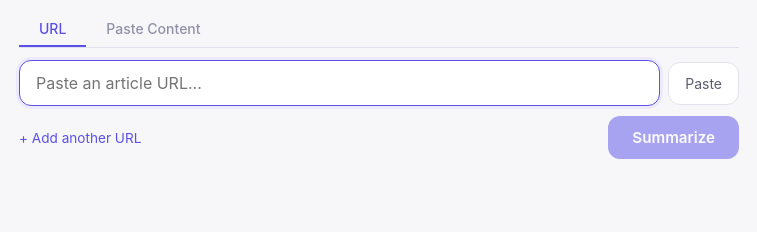
Scenario: UrlInput › shouldShowValidationErrorForNonHttpUrl
Type "ftp://invalid.com" into the field with placeholder "Paste an article URL...".
click(340, 83); type("ftp://invalid.com")  # box [19,60,660,106]
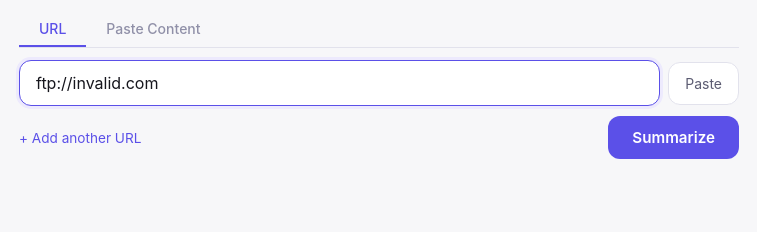
Click the button "Summarize".
click(674, 138)  # box [608,116,739,159]
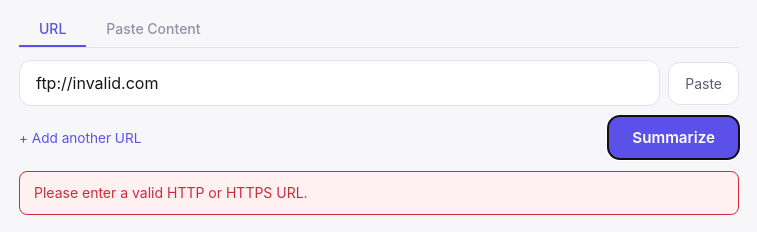
Check: the text "Please enter a valid HTTP or HTTPS URL." is shown, box [19,171,739,215]
